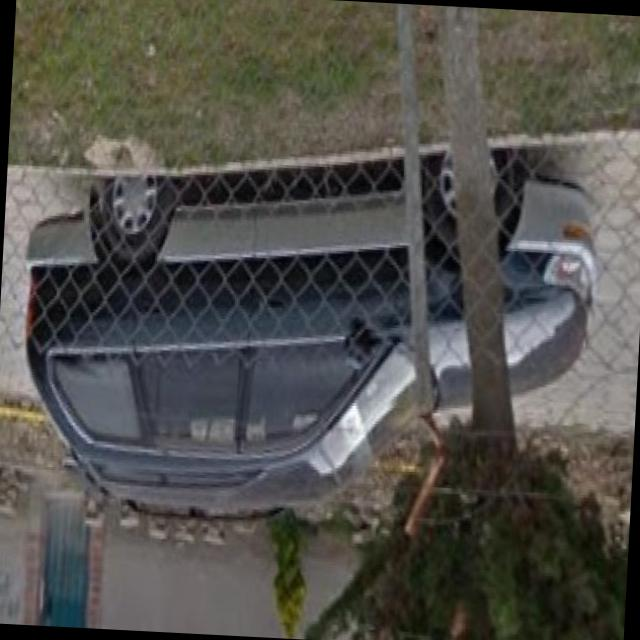car: (16, 146, 602, 504)
